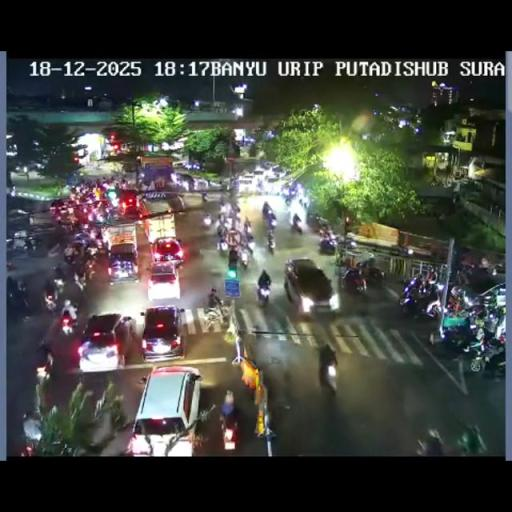Car: (128, 365, 202, 454), (77, 313, 129, 373), (284, 258, 338, 314), (140, 304, 186, 361), (146, 260, 182, 302), (107, 243, 139, 283), (150, 236, 185, 266), (117, 188, 143, 218), (12, 159, 46, 174), (237, 174, 254, 192), (265, 170, 280, 189), (252, 167, 265, 178)
Motorcycle: (278, 178, 312, 239), (434, 318, 477, 358), (400, 278, 442, 318), (466, 332, 504, 373), (220, 392, 238, 446), (6, 285, 32, 322), (455, 423, 485, 455), (202, 299, 230, 330), (22, 416, 43, 454), (341, 266, 367, 294), (417, 428, 445, 454), (362, 262, 386, 289), (446, 283, 468, 312), (86, 203, 112, 226), (34, 355, 52, 388), (320, 362, 338, 394), (464, 302, 490, 324), (337, 235, 363, 255), (309, 212, 331, 234), (72, 230, 94, 250), (82, 257, 98, 283), (318, 234, 338, 254), (456, 264, 474, 286), (256, 280, 271, 306), (62, 243, 80, 264), (43, 290, 58, 314), (237, 244, 250, 269), (60, 313, 74, 336), (485, 261, 505, 276), (46, 240, 62, 258), (52, 275, 66, 295), (72, 272, 86, 292), (216, 233, 229, 254), (24, 236, 38, 255), (424, 268, 438, 287), (396, 244, 414, 258), (100, 227, 111, 248), (266, 231, 275, 253), (243, 222, 254, 240), (220, 202, 232, 218), (216, 214, 226, 233), (232, 210, 242, 228), (228, 248, 238, 266), (267, 216, 278, 231), (292, 218, 302, 234), (262, 200, 270, 218), (202, 212, 212, 226), (220, 179, 230, 192), (177, 194, 185, 210), (231, 179, 239, 194), (284, 194, 293, 206), (299, 197, 308, 209), (255, 182, 264, 194), (234, 202, 240, 214), (201, 192, 208, 202), (184, 180, 190, 190), (205, 178, 210, 188)
